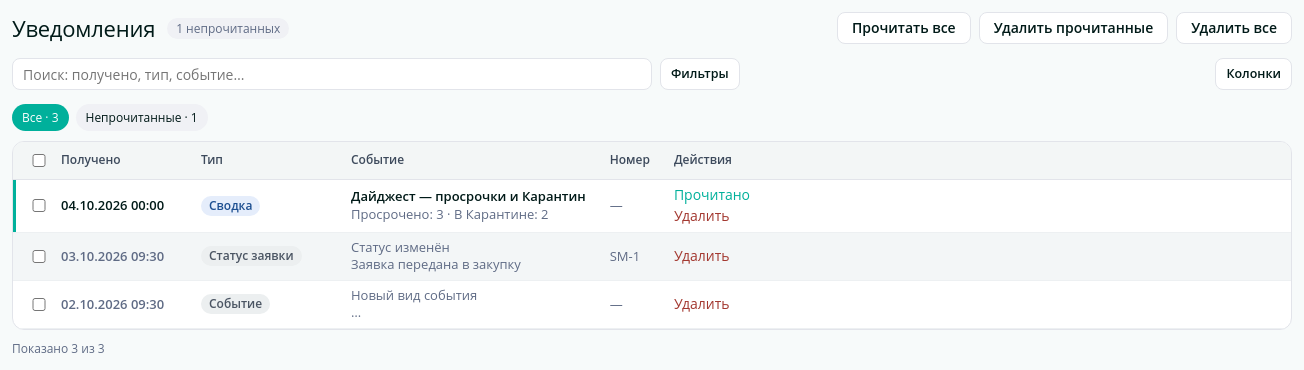
Scenario: «Удалить прочитанные» removes only the read ones
The width and height of the screenshot is (1304, 370).
Click the button "Удалить прочитанные" at [1073, 28], box [979,12,1168,44]
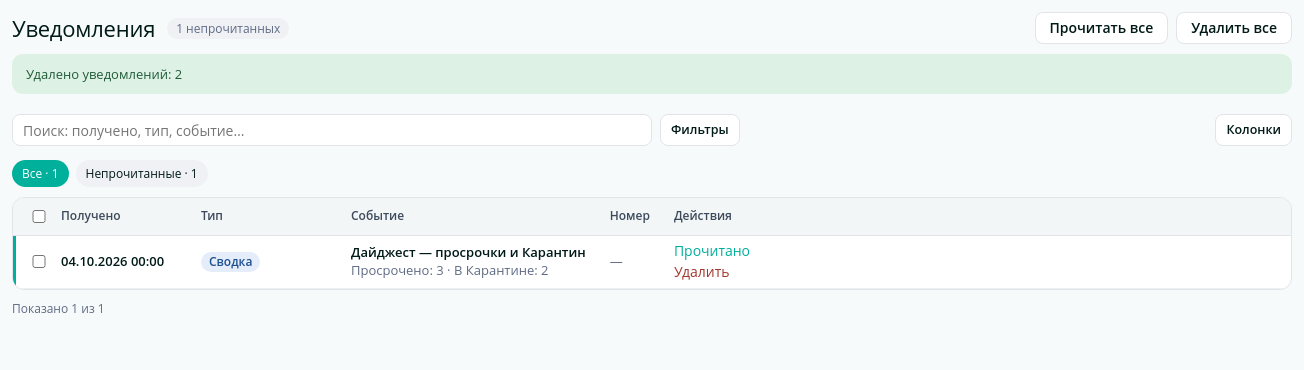
expect the text "Удалено уведомлений: 2" is shown: met, box [12,54,1292,94]
expect the text "Статус изменён" is gone: met
expect the button "Удалить прочитанные" is gone: met
